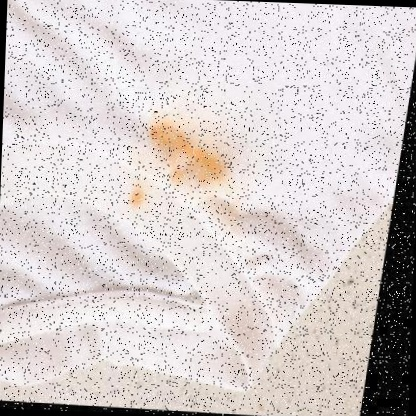kimchi: (146, 126, 230, 193), (127, 181, 160, 212)
